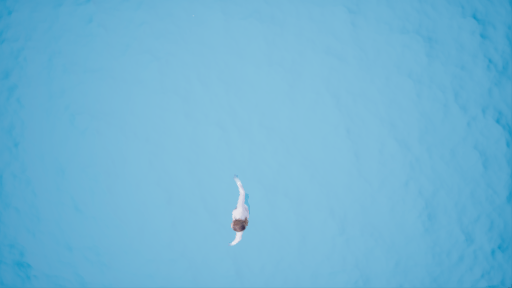person: (227, 175, 264, 245)
